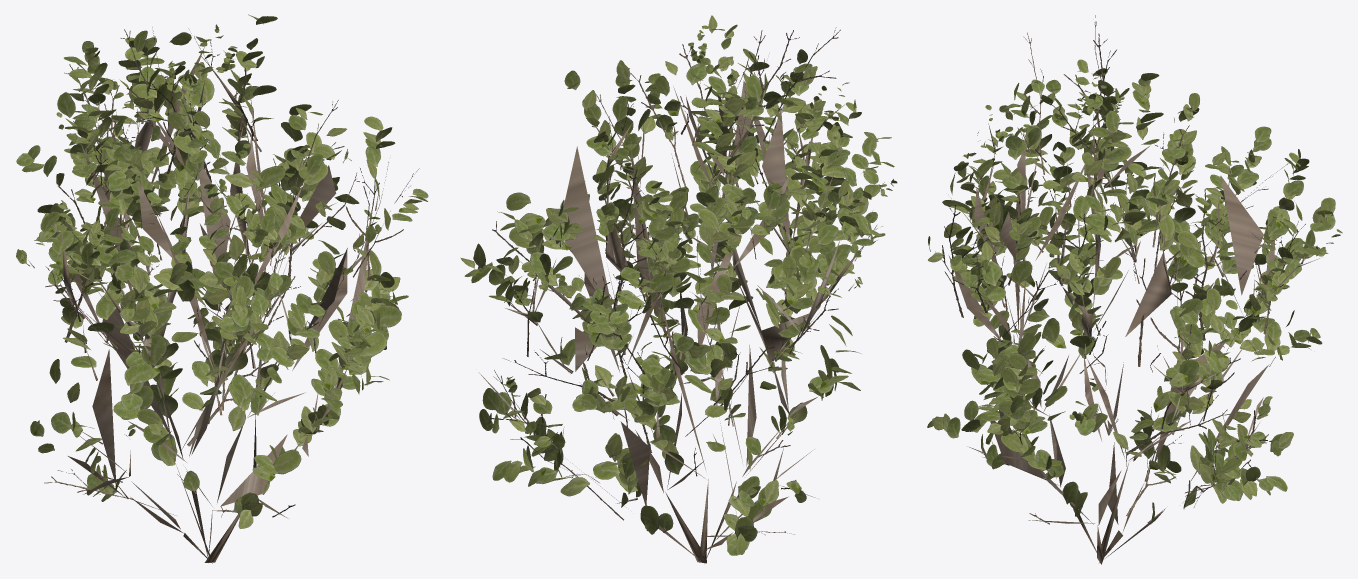
File: searsia_lucida_b_LOD0.glb
3 renders of one model, left to right at view 1: azimuth 30°, elevation 25°; view 2: azimuth 150°, elevation 25°; view 3: azimuth 270°, elevation 25°, orthographic. The views are drawn at different scales.
Parts seen in each view (by area): view 1: searsia_lucida_b_LOD0; view 2: searsia_lucida_b_LOD0; view 3: searsia_lucida_b_LOD0.
Part boxes in pixels (box(x1,y1,x2,y2)): searsia_lucida_b_LOD0: box(16, 14, 428, 563); searsia_lucida_b_LOD0: box(460, 15, 897, 563); searsia_lucida_b_LOD0: box(927, 15, 1342, 564).
Size of the model in its own units: 1.44 by 2.02 by 1.5.
Materials: 3 (3 with a texture image).
